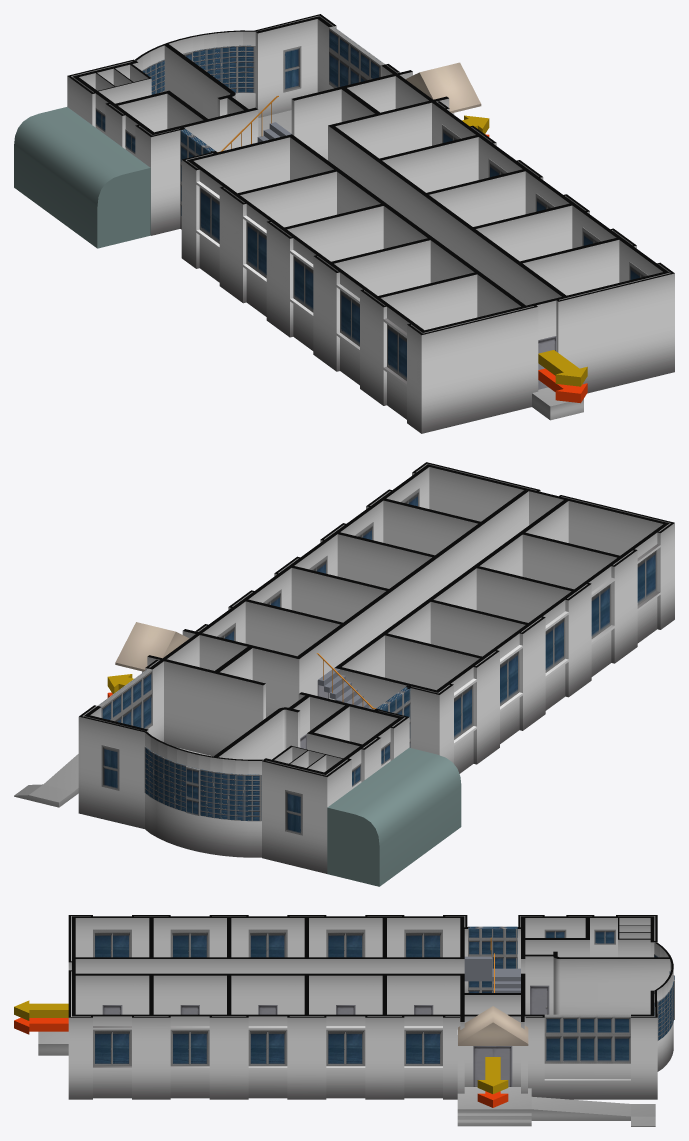
File: soubrain_T1-10-1F.glb
3 views of the same model, one above another, from view 1: azimuth 30°, elevation 25°; view 2: azimuth 150°, elevation 25°; view 3: azimuth 270°, elevation 25° (orthographic). The views are drawn at different scales.
Parts seen in each view (by area): view 1: Box251, T1-10-1F, Line665, arrow_Y_2_T1-10-1F, arrow_R_2_T1-10-1F; view 2: Box251, T1-10-1F, Line665; view 3: Box251, T1-10-1F, Line665, arrow_Y_2_T1-10-1F, arrow_R_2_T1-10-1F, arrow_Y_1_T1-10-1F, arrow_R_1_T1-10-1F.
Boxes of the visible parts, x1,y1,x2,y2 form: Box251: [67, 14, 674, 433]; T1-10-1F: [14, 26, 648, 389]; Line665: [258, 110, 583, 420]; arrow_Y_2_T1-10-1F: [538, 350, 587, 386]; arrow_R_2_T1-10-1F: [538, 368, 587, 403]; Box251: [78, 462, 674, 873]; T1-10-1F: [97, 488, 657, 886]; Line665: [14, 747, 211, 807]; Box251: [68, 915, 673, 1099]; T1-10-1F: [93, 926, 674, 1086]; Line665: [38, 1031, 655, 1126]; arrow_Y_2_T1-10-1F: [14, 1000, 68, 1020]; arrow_R_2_T1-10-1F: [14, 1017, 68, 1034]; arrow_Y_1_T1-10-1F: [477, 1057, 508, 1093]; arrow_R_1_T1-10-1F: [477, 1091, 508, 1107].
Size of the model in its own units: 16.7 by 5.36 by 30.59.
Materials: 12 (8 with a texture image).
